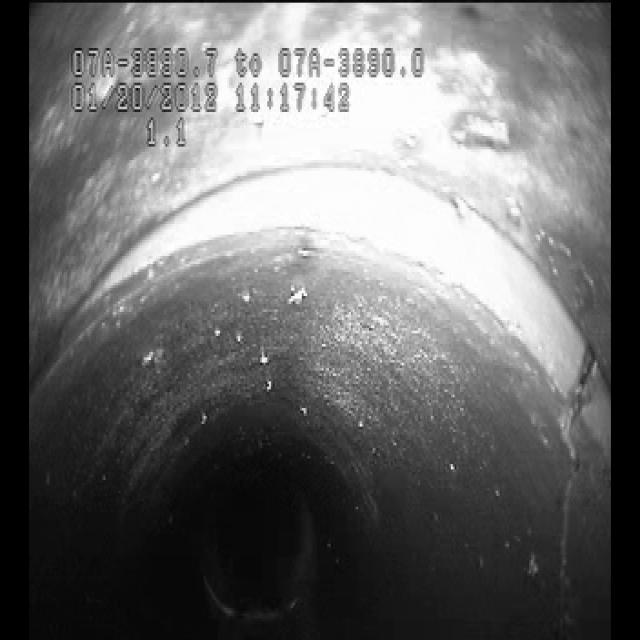Crack: (534, 323, 608, 577)
